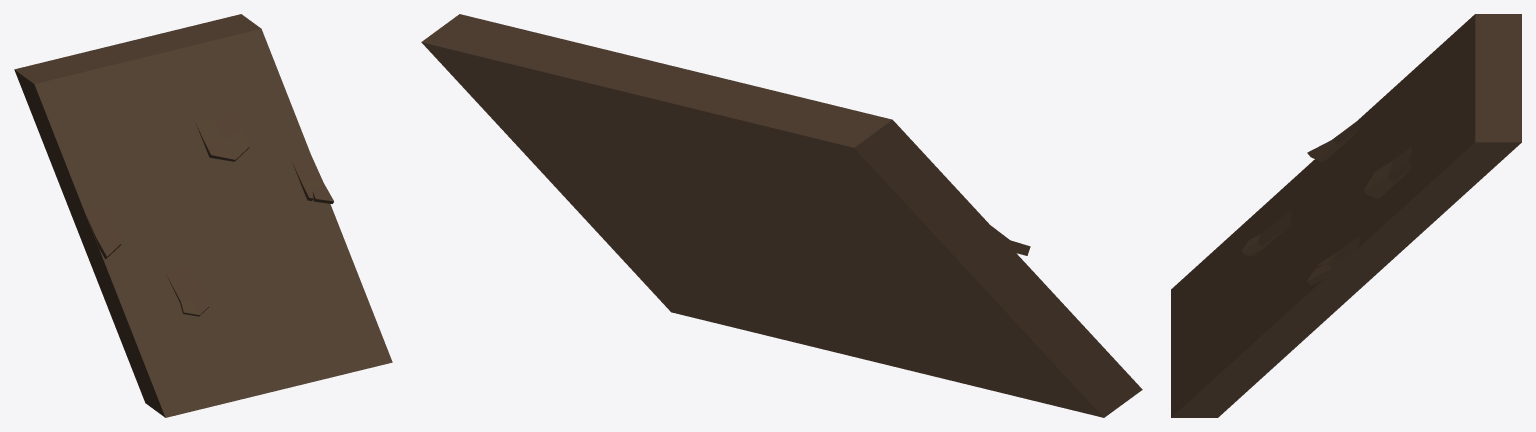
Rendered from buildings-roof-wood-3x3m.glb.
The picture shows the model from 3 angles, left to right: view 1: azimuth 30°, elevation 25°; view 2: azimuth 150°, elevation 25°; view 3: azimuth 270°, elevation 25°; orthographic projection. The views are drawn at different scales.
Parts seen in each view (by area): view 1: roof-wood-3x3m; view 2: roof-wood-3x3m; view 3: roof-wood-3x3m.
Boxes of the visible parts, left/top/right/bottom form: roof-wood-3x3m: left=14, top=14, right=392, bottom=417; roof-wood-3x3m: left=421, top=14, right=1142, bottom=417; roof-wood-3x3m: left=1171, top=14, right=1521, bottom=417.
Size of the model in its own units: 3 by 3 by 3.46.
